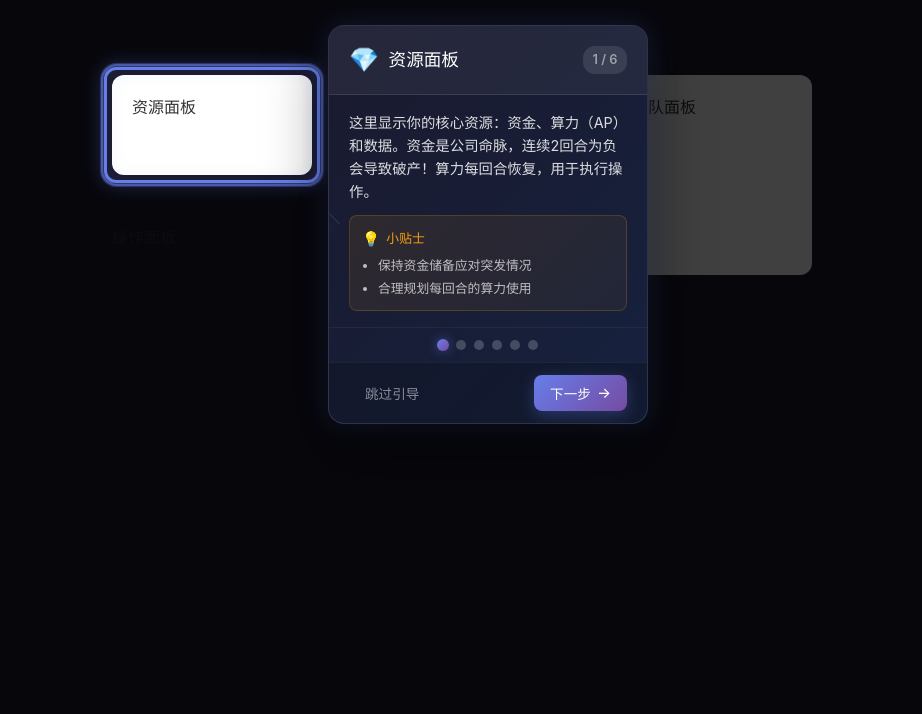
Test case: 引导完成流程集成测试 › 引导步骤应该按顺序显示
Check: the heading with class "tooltip-title" reads "资源面板", box [388,49,459,70]
Step 1. Click the button "下一步 →" → (581, 393), box [534,375,627,411]
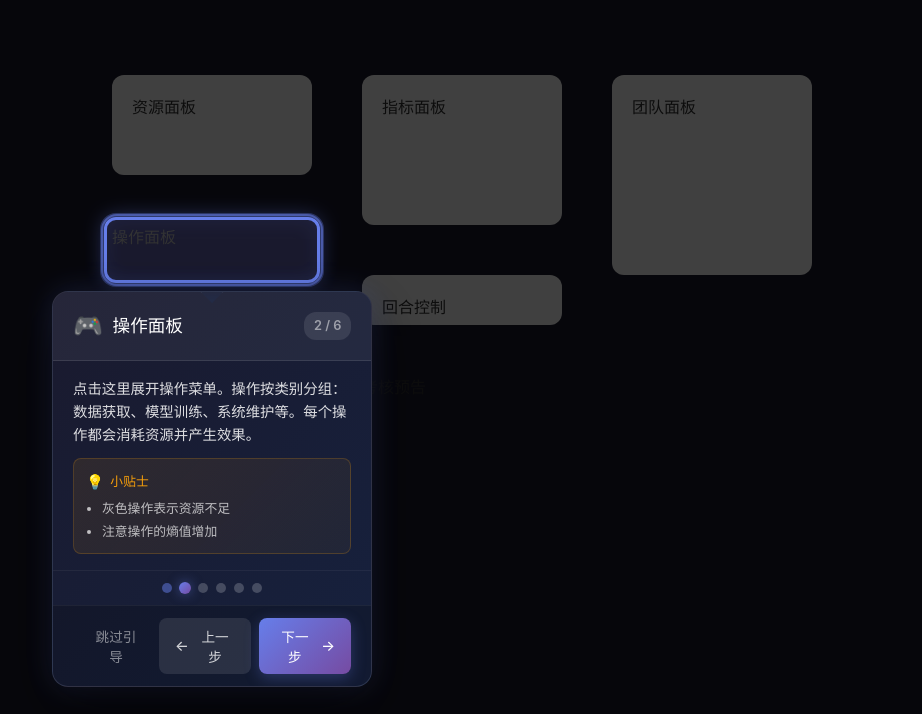
Check: the heading with class "tooltip-title" reads "操作面板", box [112,315,183,336]
Step 2. Click the button "下一步 →" → (305, 646), box [259,618,351,674]
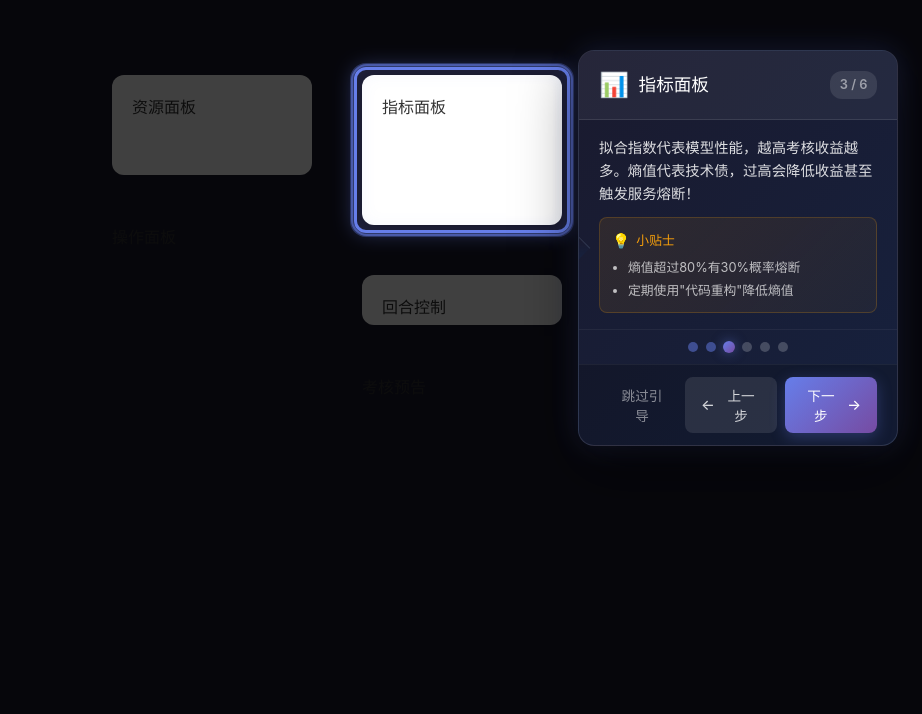
Check: the heading with class "tooltip-title" reads "指标面板", box [638,74,709,95]
Step 3. Click the button "下一步 →" → (831, 405), box [785,377,877,433]
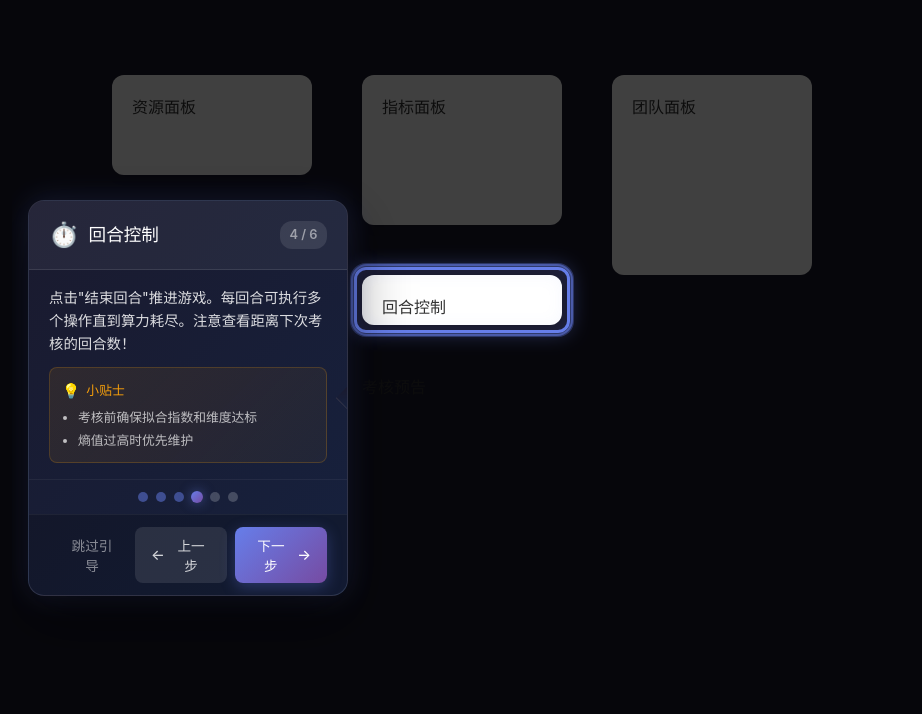
Check: the heading with class "tooltip-title" reads "回合控制", box [88,224,159,245]
Step 4. Click the button "下一步 →" → (281, 555), box [235,527,327,583]
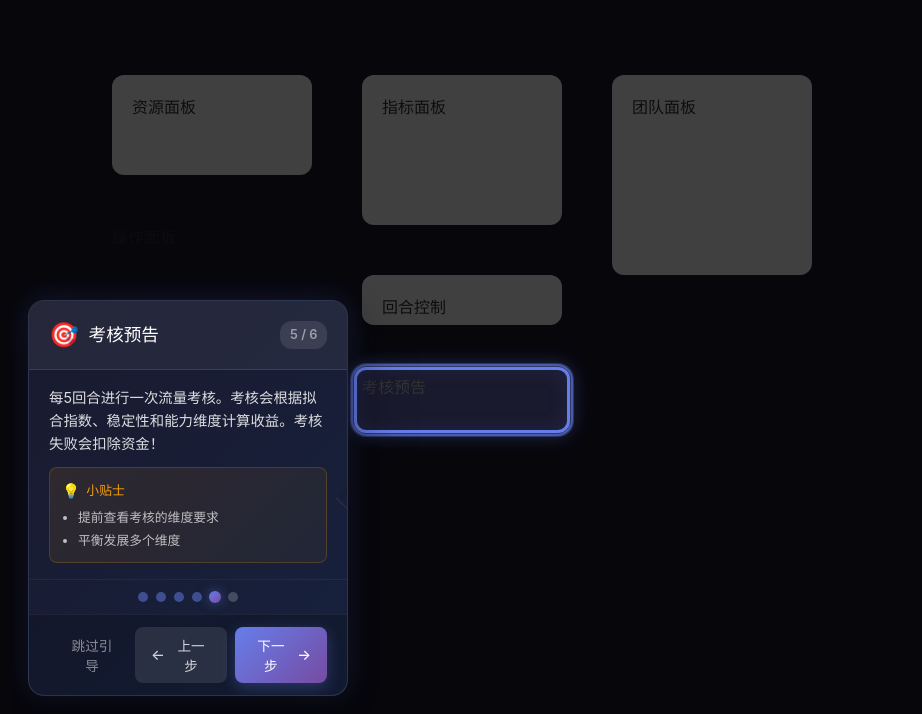
Check: the heading with class "tooltip-title" reads "考核预告", box [88,324,159,345]
Step 5. Click the button "下一步 →" → (281, 655), box [235,627,327,683]
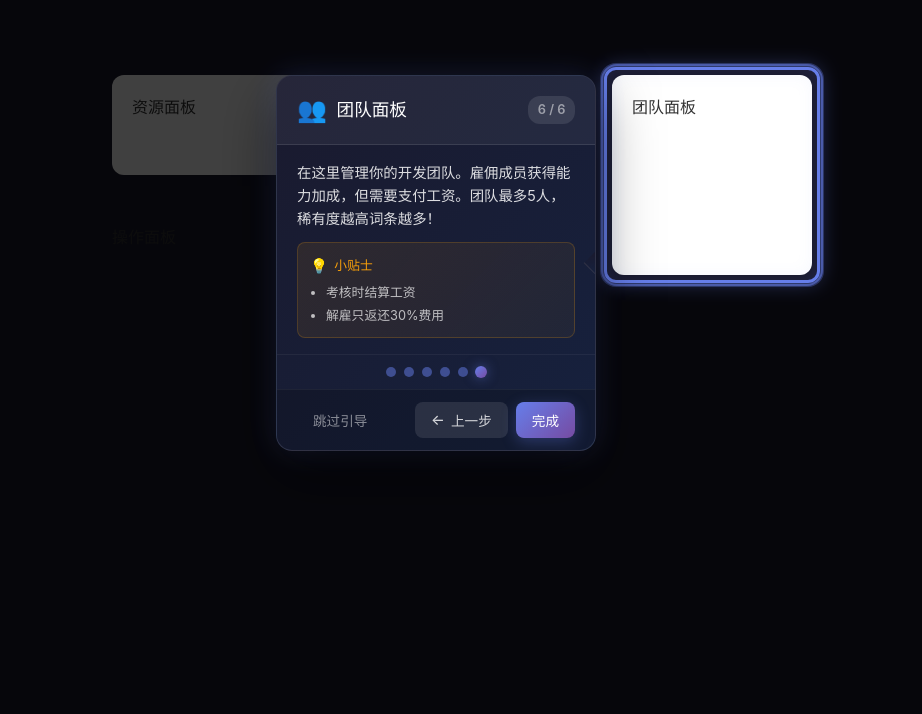
Check: the heading with class "tooltip-title" reads "团队面板", box [336,99,407,120]
